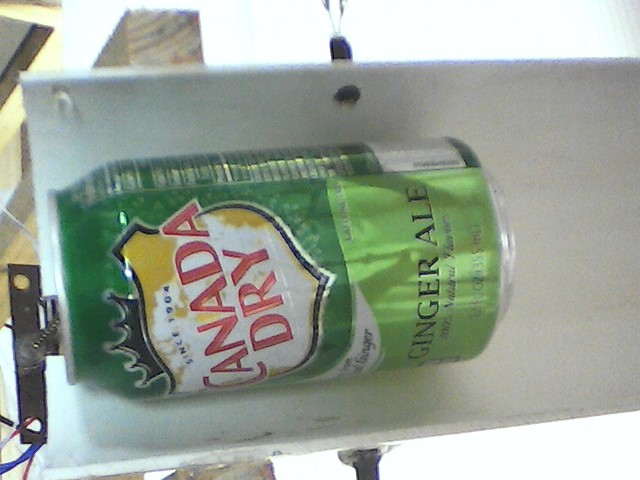lata: (44, 132, 523, 404)
